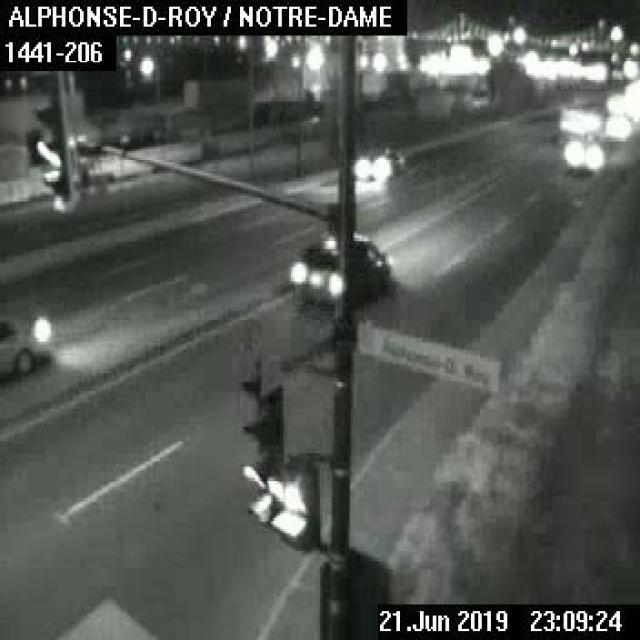vehicle: (289, 228, 393, 306), (0, 300, 53, 380), (353, 144, 404, 181), (562, 132, 609, 169)
